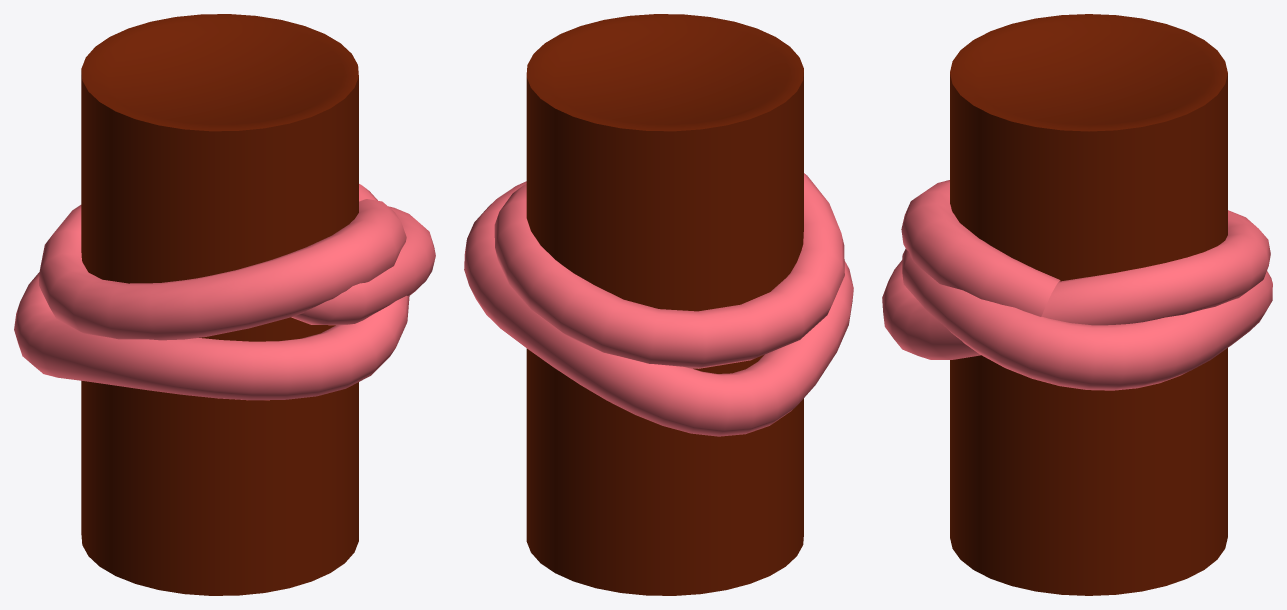
The model's file is PuzzleLengua.fbx.
3 views of the same model, side by side, from view 1: azimuth 30°, elevation 25°; view 2: azimuth 150°, elevation 25°; view 3: azimuth 270°, elevation 25° (orthographic).
Visible parts, largest first — view 1: Cylinder, BezierCurve; view 2: Cylinder, BezierCurve; view 3: Cylinder, BezierCurve.
Boxes of the visible parts, left/top/right/bottom form: Cylinder: left=81, top=14, right=358, bottom=595; BezierCurve: left=14, top=184, right=435, bottom=400; Cylinder: left=526, top=14, right=803, bottom=595; BezierCurve: left=464, top=173, right=853, bottom=436; Cylinder: left=950, top=14, right=1227, bottom=595; BezierCurve: left=882, top=180, right=1272, bottom=390.
Bounding box in the file's own units: 115 × 144 × 110.
